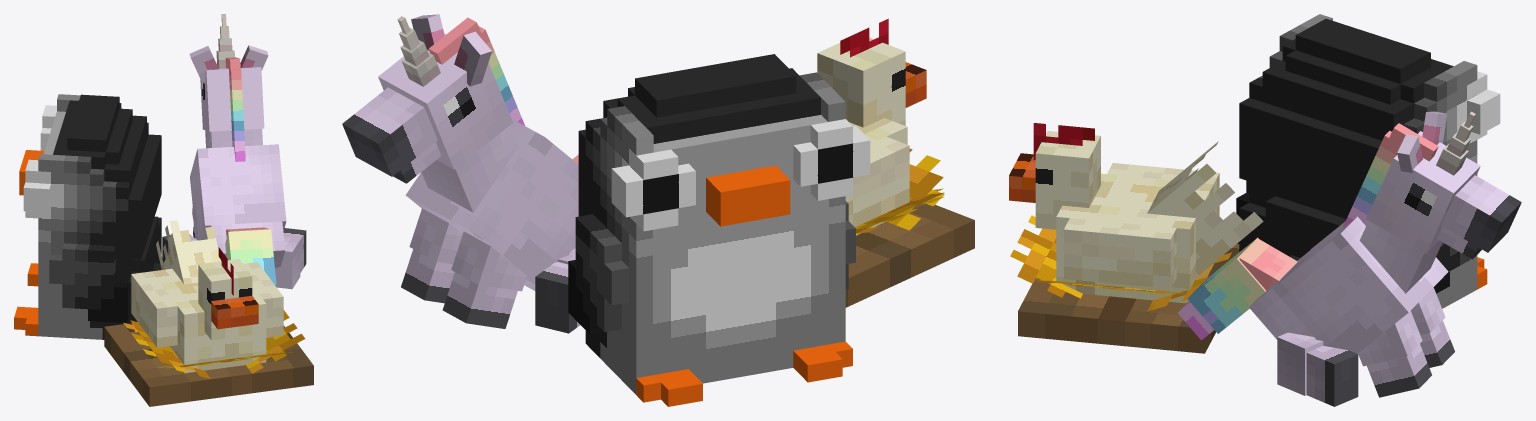
The model's file is khazoda_model.gltf.
3 renders of one model, left to right at view 1: azimuth 30°, elevation 25°; view 2: azimuth 150°, elevation 25°; view 3: azimuth 270°, elevation 25°, orthographic. The views are drawn at different scales.
Parts seen in each view (by area): view 1: cube (×17), Box, BodyFront, Head (×2), Body, Wing, Tail, HayPile (×3), Tail2, Wing_2, Beak, Mane (+7 smaller); view 2: cube (×18), Head (×2), BodyFront, Box, Snout (×2), nose, Wing, Neck, LFrontLegLower, LFrontLegUpper, HayPile (×2), LBackLegLower (+10 smaller); view 3: cube (×13), BodyFront, Head (×2), Box, Body, Wing_2, Tail, Snout (×2), Tail2, HayPile (×2), RBackLegLower, Neck (+16 smaller).
Part boxes in pixels (x1,y1,x2,y2): cube (×17): [14, 94, 161, 339]; Box: [104, 323, 313, 406]; BodyFront: [190, 144, 286, 240]; Head (×2): [198, 67, 264, 340]; Body: [152, 268, 266, 373]; Wing: [131, 271, 177, 347]; Tail: [156, 220, 220, 284]; HayPile (×3): [123, 310, 305, 378]; Tail2: [225, 229, 276, 286]; Wing_2: [243, 262, 283, 337]; Beak: [211, 295, 258, 329]; Mane: [229, 69, 245, 161]; cube (×18): [575, 54, 870, 406]; Head (×2): [378, 34, 905, 169]; BodyFront: [405, 119, 578, 284]; Box: [845, 203, 974, 307]; Snout (×2): [342, 87, 441, 183]; nose: [706, 165, 790, 226]; Wing: [845, 136, 909, 227]; Neck: [421, 125, 518, 212]; LFrontLegLower: [442, 272, 517, 328]; LFrontLegUpper: [451, 231, 526, 291]; HayPile (×2): [855, 148, 944, 233]; LBackLegLower: [535, 262, 579, 333]; cube (×13): [1239, 14, 1500, 308]; BodyFront: [1272, 216, 1448, 353]; Head (×2): [1035, 131, 1480, 253]; Box: [1018, 243, 1239, 353]; Body: [1056, 173, 1213, 303]; Wing_2: [1064, 218, 1176, 288]; Tail: [1147, 141, 1263, 277]; Snout (×2): [1437, 175, 1521, 259]; Tail2: [1187, 237, 1265, 333]; HayPile (×2): [1010, 215, 1236, 311]; RBackLegLower: [1306, 346, 1358, 406]; Neck: [1359, 221, 1442, 293].
Size of the model in its own units: 4.39 by 3.24 by 5.33.
3 materials, 3 textured.
